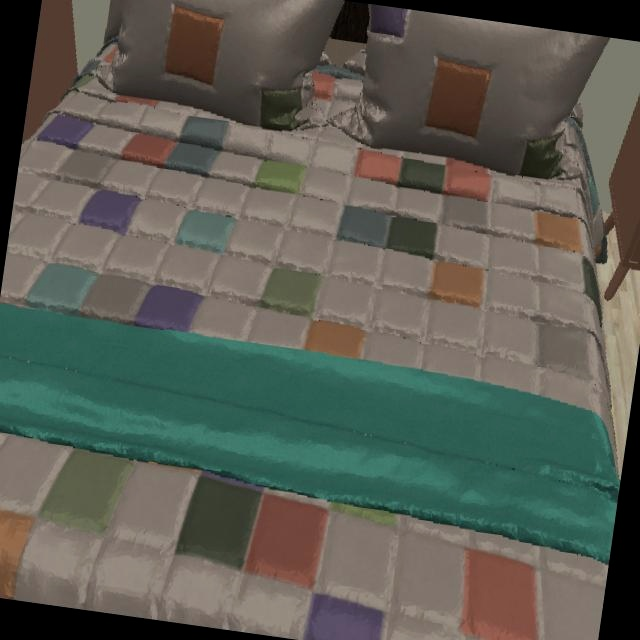bed: (0, 0, 640, 640)
nighttable: (24, 0, 79, 143), (609, 95, 640, 265)
pillow: (95, 0, 612, 177)
